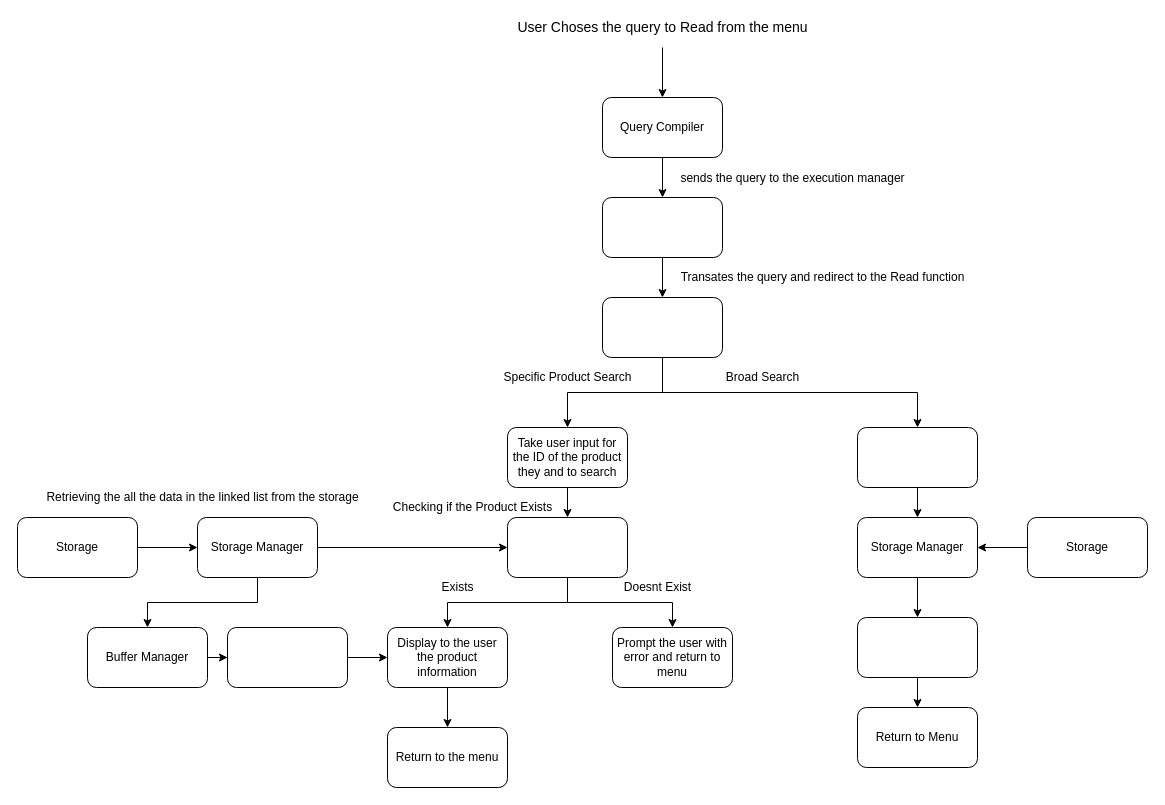
Some shapes in this 1165 by 805 pixel diagram are drawn without their labels. The shapes that lost their labels are listed below. From the top down, each one's box as (x1, y1, x2, y2) in pixels, then its label:
(602, 196, 722, 258): Execution Manager
(602, 296, 722, 358): Take User Input to choose which type of search they want to undergo
(856, 426, 978, 488): Take user input for the inforamtion they want to search about products
(506, 516, 628, 578): Index Manager
(226, 626, 348, 688): Buffer
(856, 616, 978, 678): Display to the user all the products based on the value
